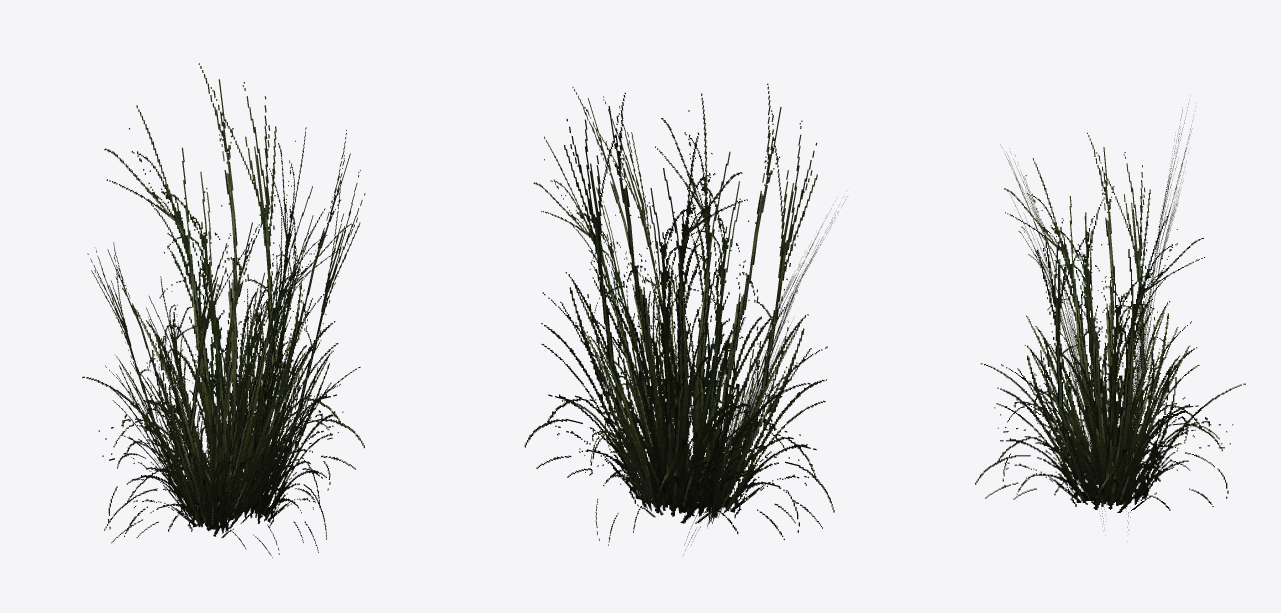
Rendered from grass_2.glb.
The picture shows the model from 3 angles, left to right: view 1: azimuth 30°, elevation 25°; view 2: azimuth 150°, elevation 25°; view 3: azimuth 270°, elevation 25°; orthographic projection. The views are drawn at different scales.
Visible parts, largest first — view 1: grass_2; view 2: grass_2; view 3: grass_2.
Part boxes in pixels (x1,y1,x2,y2): grass_2: (82, 63, 365, 557); grass_2: (524, 83, 847, 555); grass_2: (975, 100, 1245, 541).
Size of the model in its own units: 0.7557 by 1 by 0.6727.
Materials: 1 (1 with a texture image).
